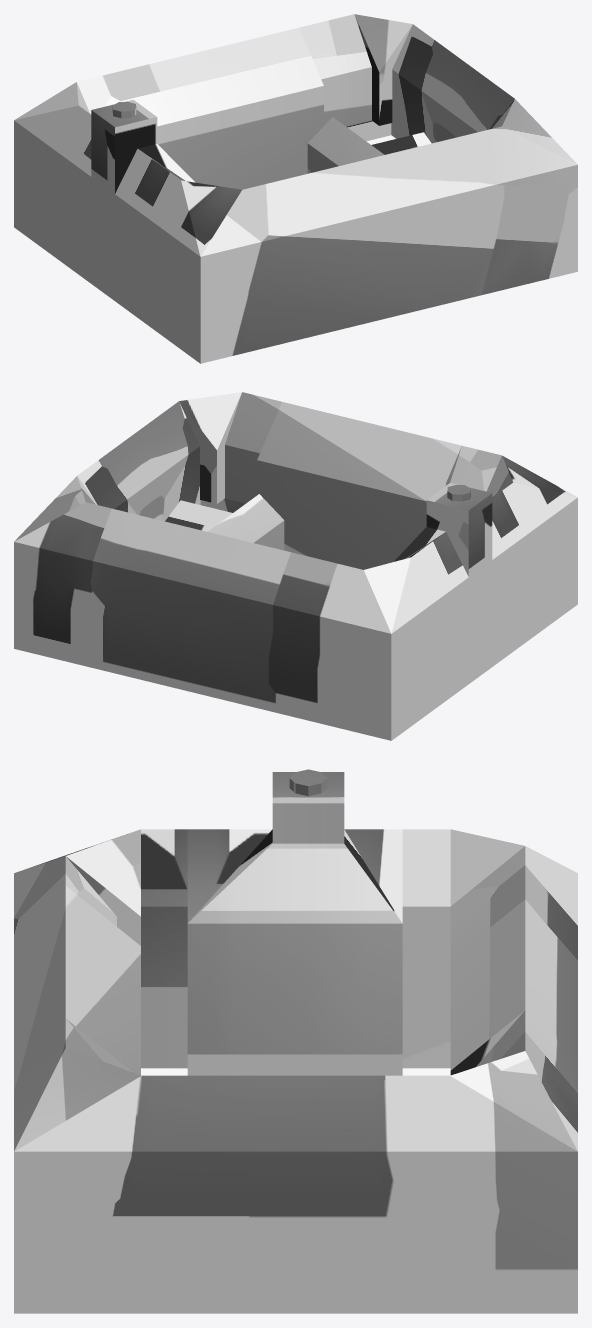
The model's file is beuth1.2_nochGroesser.dae.
3 renders of one model, top to bottom at view 1: azimuth 30°, elevation 25°; view 2: azimuth 150°, elevation 25°; view 3: azimuth 270°, elevation 25°, orthographic. The views are drawn at different scales.
Visible parts, largest first — view 1: Mesh; view 2: Mesh; view 3: Mesh.
Part boxes in pixels (x1=…): Mesh: x1=14, y1=14, x2=577, y2=363; Mesh: x1=14, y1=392, x2=577, y2=740; Mesh: x1=14, y1=769, x2=577, y2=1313.
Bounding box in the file's own units: 77 × 65.89 × 35.2.
2 materials, 2 textured.
